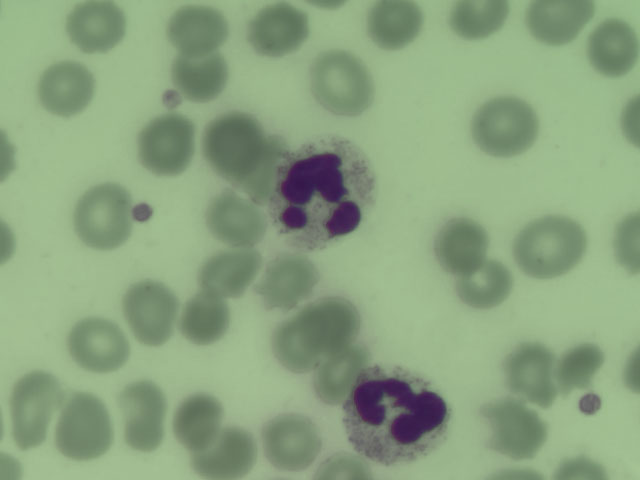Platelets: (574, 389, 605, 416), (157, 86, 183, 113), (130, 200, 157, 226)
RBC: (6, 364, 54, 453), (118, 377, 167, 456), (516, 217, 586, 272), (477, 97, 535, 154), (486, 401, 544, 458), (504, 346, 562, 403), (582, 19, 640, 76), (454, 256, 512, 313), (430, 217, 488, 274), (261, 317, 319, 374), (302, 294, 360, 351), (263, 411, 321, 468), (197, 422, 255, 479), (167, 390, 225, 447), (257, 253, 315, 310), (206, 115, 264, 172), (136, 116, 194, 173), (207, 190, 265, 247), (201, 242, 259, 299), (178, 290, 236, 347), (122, 282, 180, 339), (68, 317, 126, 374), (55, 397, 113, 454), (314, 54, 372, 111), (247, 1, 305, 58), (171, 45, 229, 102), (73, 186, 131, 243), (35, 60, 93, 117), (66, 1, 124, 57), (364, 1, 426, 52), (522, 1, 593, 43), (602, 203, 640, 278), (170, 8, 229, 49), (449, 1, 507, 41), (564, 340, 606, 387), (552, 448, 609, 479), (618, 91, 640, 153), (1, 116, 16, 193)
WBC: (275, 132, 373, 253), (347, 366, 451, 464)
